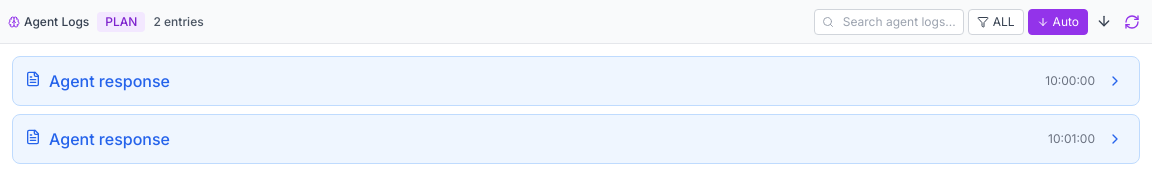
Test: AgentLogsPanel Component › Search › should search logs by content (via details field)
Expected: the text "2 entries" is shown, top-left (153, 14), bottom-right (204, 30)
Type "Zustand" into the field with placeholder "Search agent logs..." at (889, 22), box top-left (814, 9), bottom-right (964, 35)
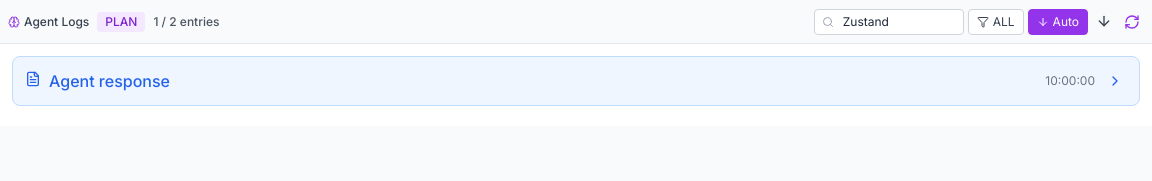
Result: the text "1 / 2 entries" is shown at top-left (153, 14), bottom-right (219, 30)
